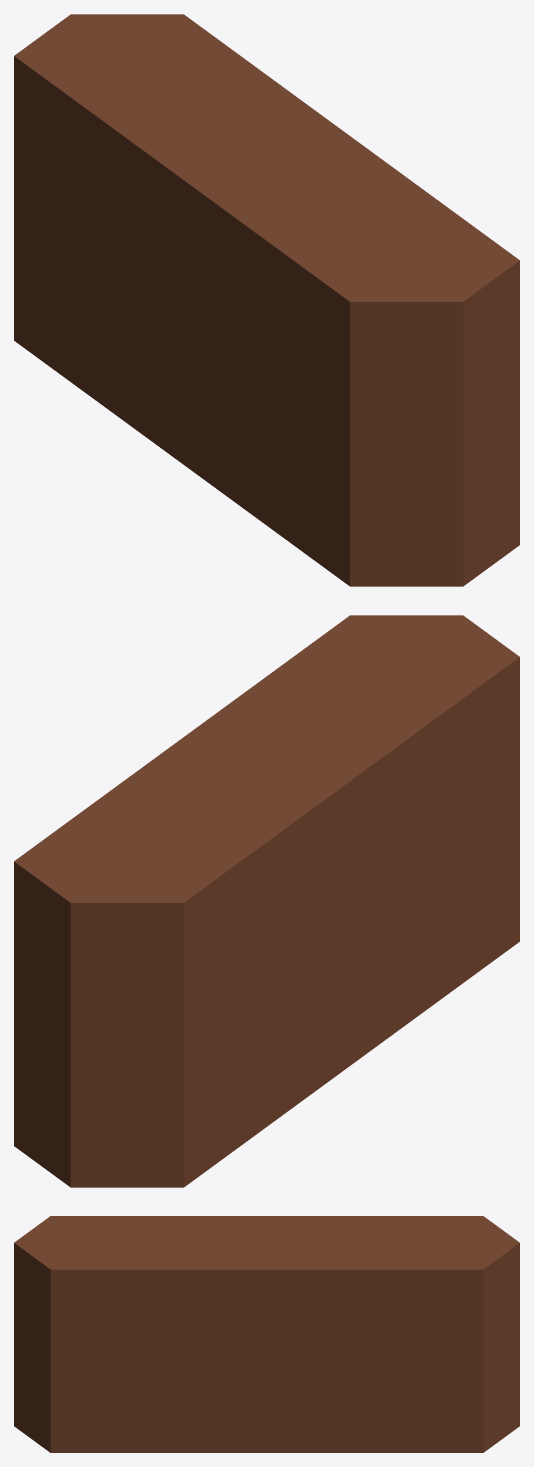
Rendered from _wooden_wall_5_t.glb.
3 renders of one model, top to bottom at view 1: azimuth 30°, elevation 25°; view 2: azimuth 150°, elevation 25°; view 3: azimuth 270°, elevation 25°, orthographic. The views are drawn at different scales.
Parts seen in each view (by area): view 1: WoodenWallLongTall; view 2: WoodenWallLongTall; view 3: WoodenWallLongTall.
Boxes of the visible parts, left/top/right/bottom form: WoodenWallLongTall: left=14, top=14, right=519, bottom=586; WoodenWallLongTall: left=14, top=615, right=519, bottom=1187; WoodenWallLongTall: left=14, top=1216, right=519, bottom=1452.
Bounding box in the file's own units: 0.5 × 0.8 × 2.
Materials: 1 (1 with a texture image).
